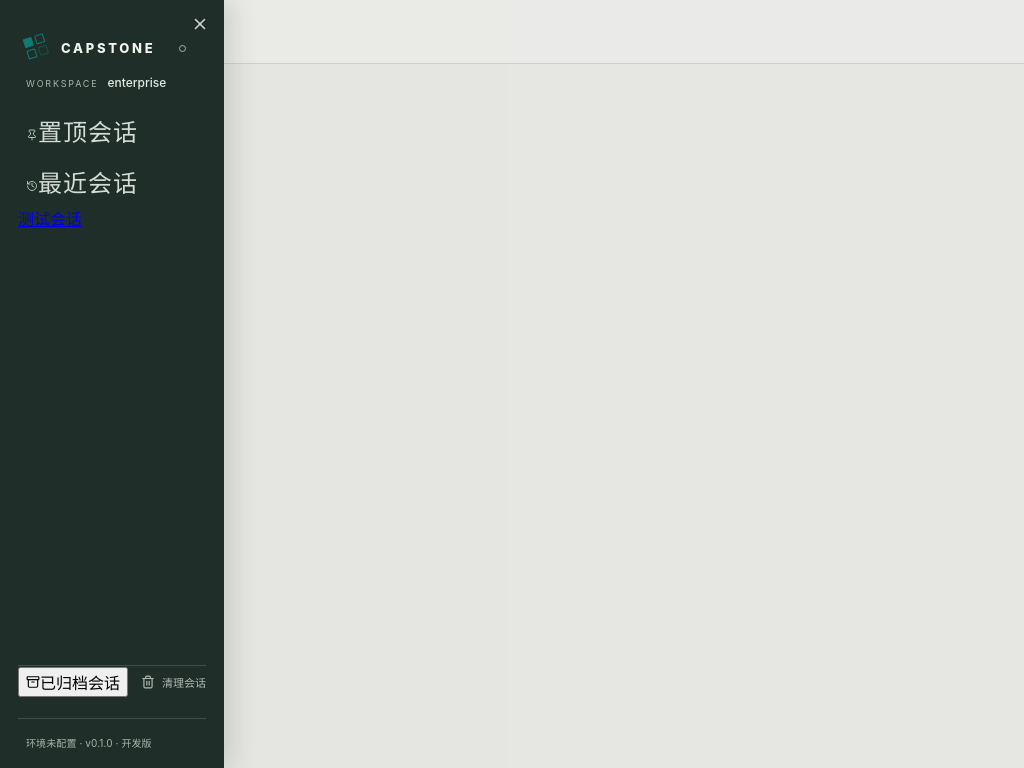
it: cancels inline rename with Escape while keeping the navigation open
Right-click the link "测试会话" at (50, 218), box [18, 206, 82, 230]
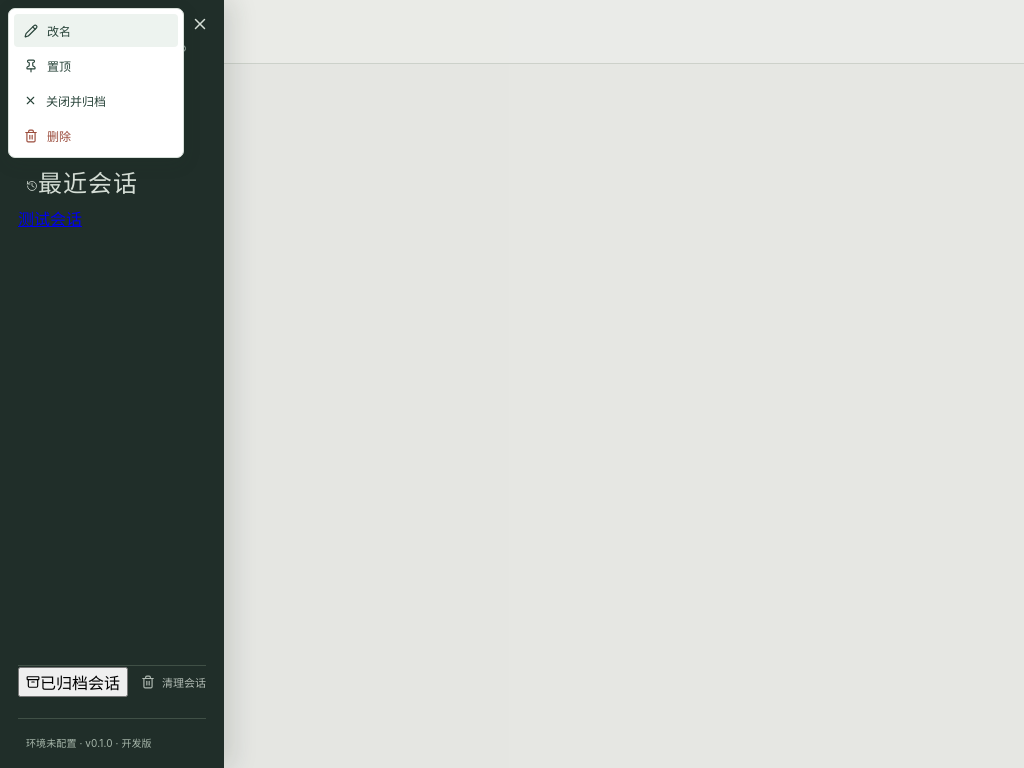
Click the menu item "改名" at (96, 30), box [14, 14, 178, 47]
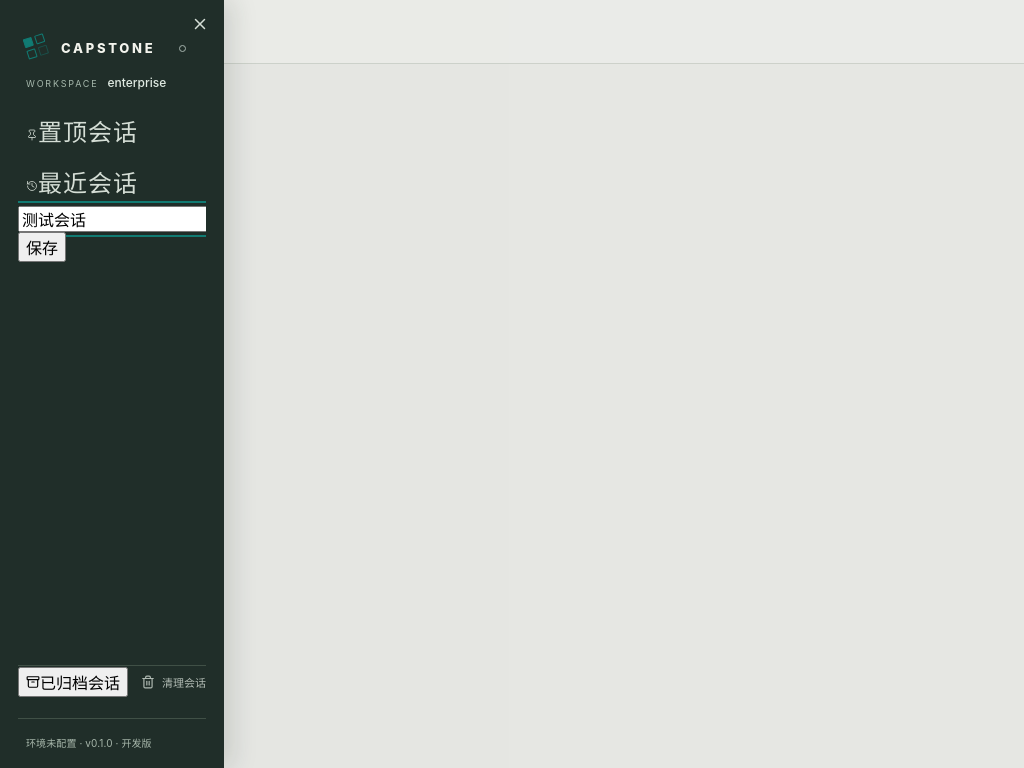
Replace the text in the field named "会话名称" with "不保存的名称" at (146, 219), box [18, 206, 274, 232]
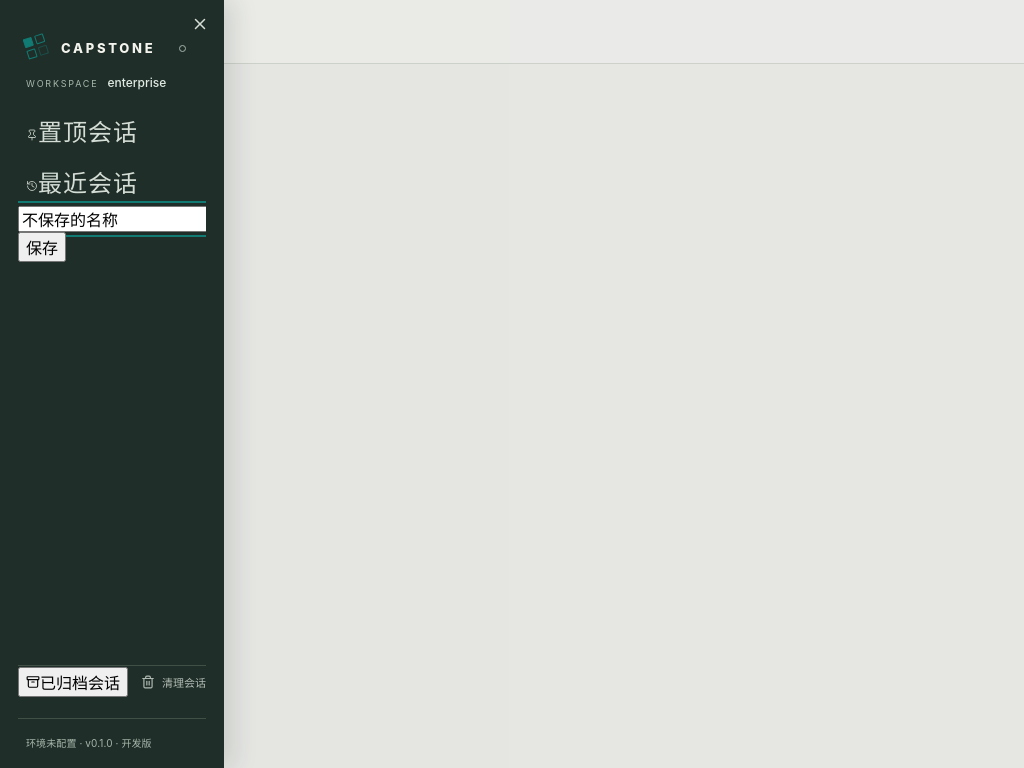
Press Escape in the field named "会话名称", box [18, 206, 274, 232]
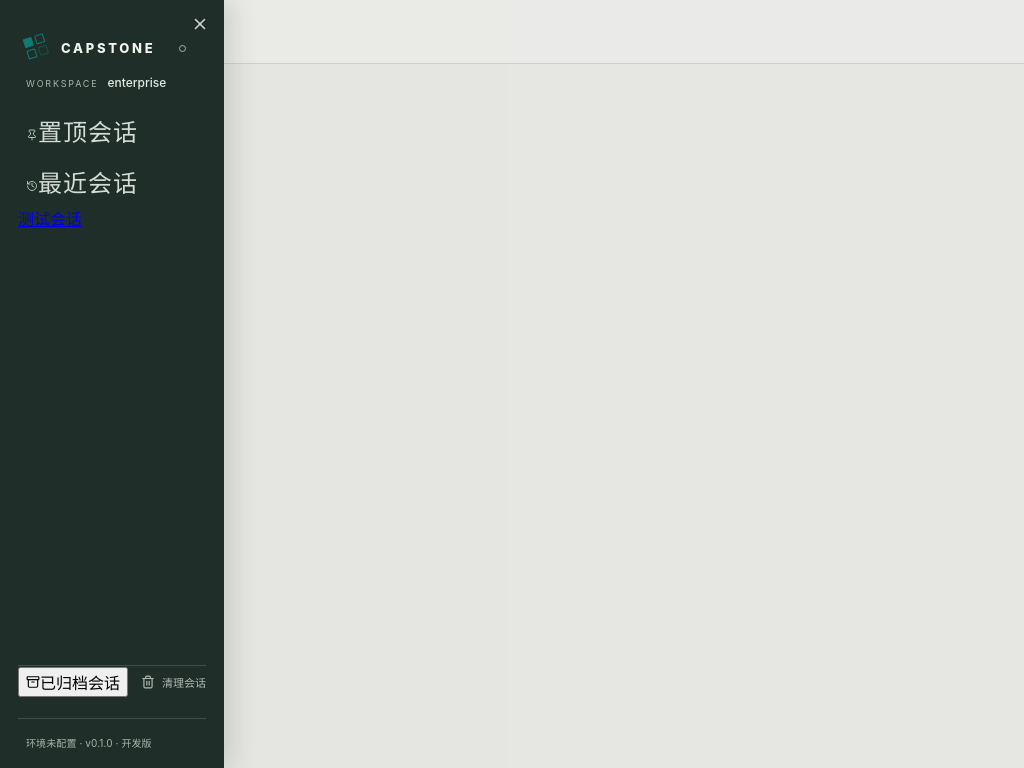
Check: the field labelled "会话名称" is gone
Check: the link "测试会话" is shown, box [18, 206, 82, 230]
